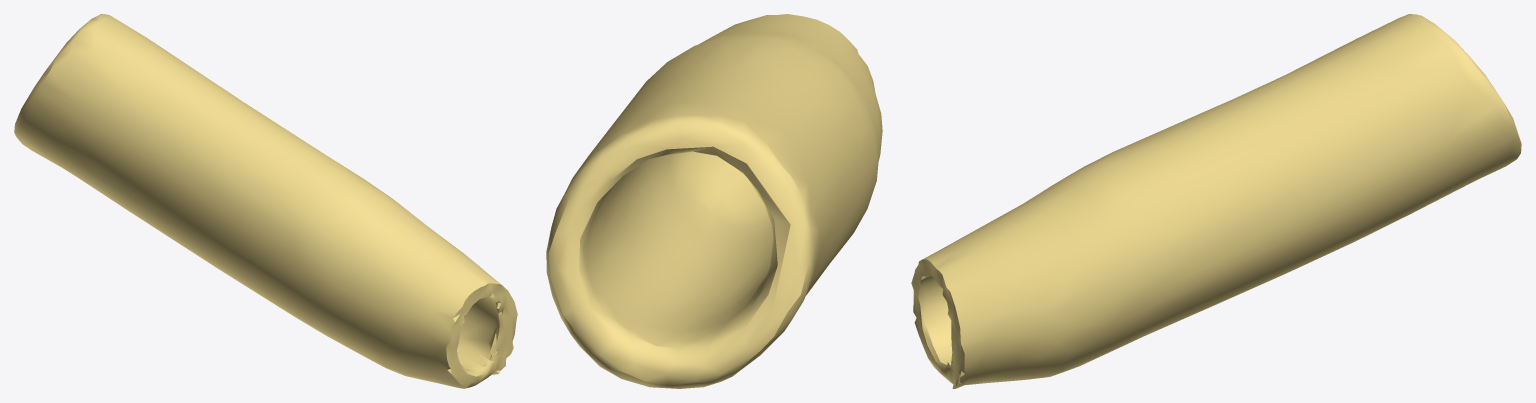
Rendered from fma58723_mm2244.glb.
3 renders of one model, left to right at view 1: azimuth 30°, elevation 25°; view 2: azimuth 150°, elevation 25°; view 3: azimuth 270°, elevation 25°, orthographic. The views are drawn at different scales.
Parts seen in each view (by area): view 1: FMA58723_MM2244; view 2: FMA58723_MM2244; view 3: FMA58723_MM2244.
Boxes of the visible parts, x1,y1,x2,y2 form: FMA58723_MM2244: (14, 14, 517, 388); FMA58723_MM2244: (546, 14, 882, 388); FMA58723_MM2244: (911, 14, 1521, 388).
Size of the model in its own units: 0.00961 by 0.00801 by 0.0162.
